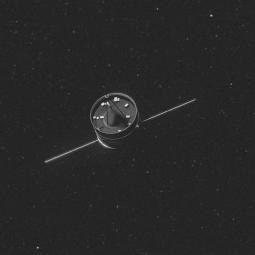double_start: (78, 73, 154, 152)
